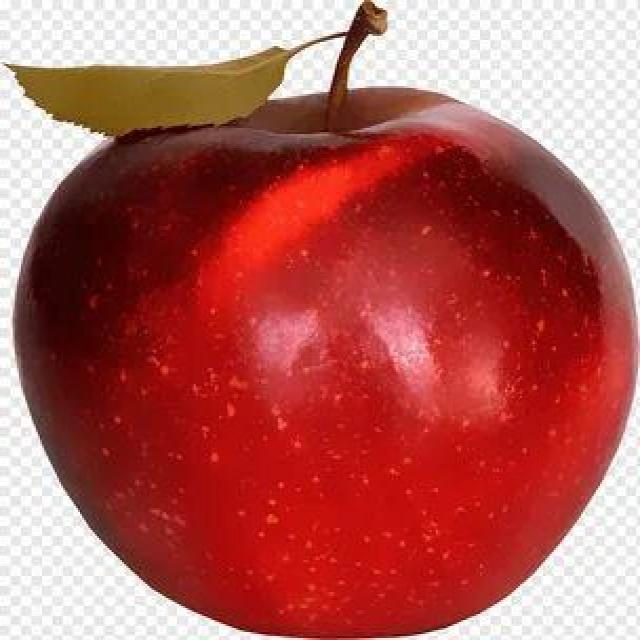Healty Apple: (14, 88, 639, 640)
